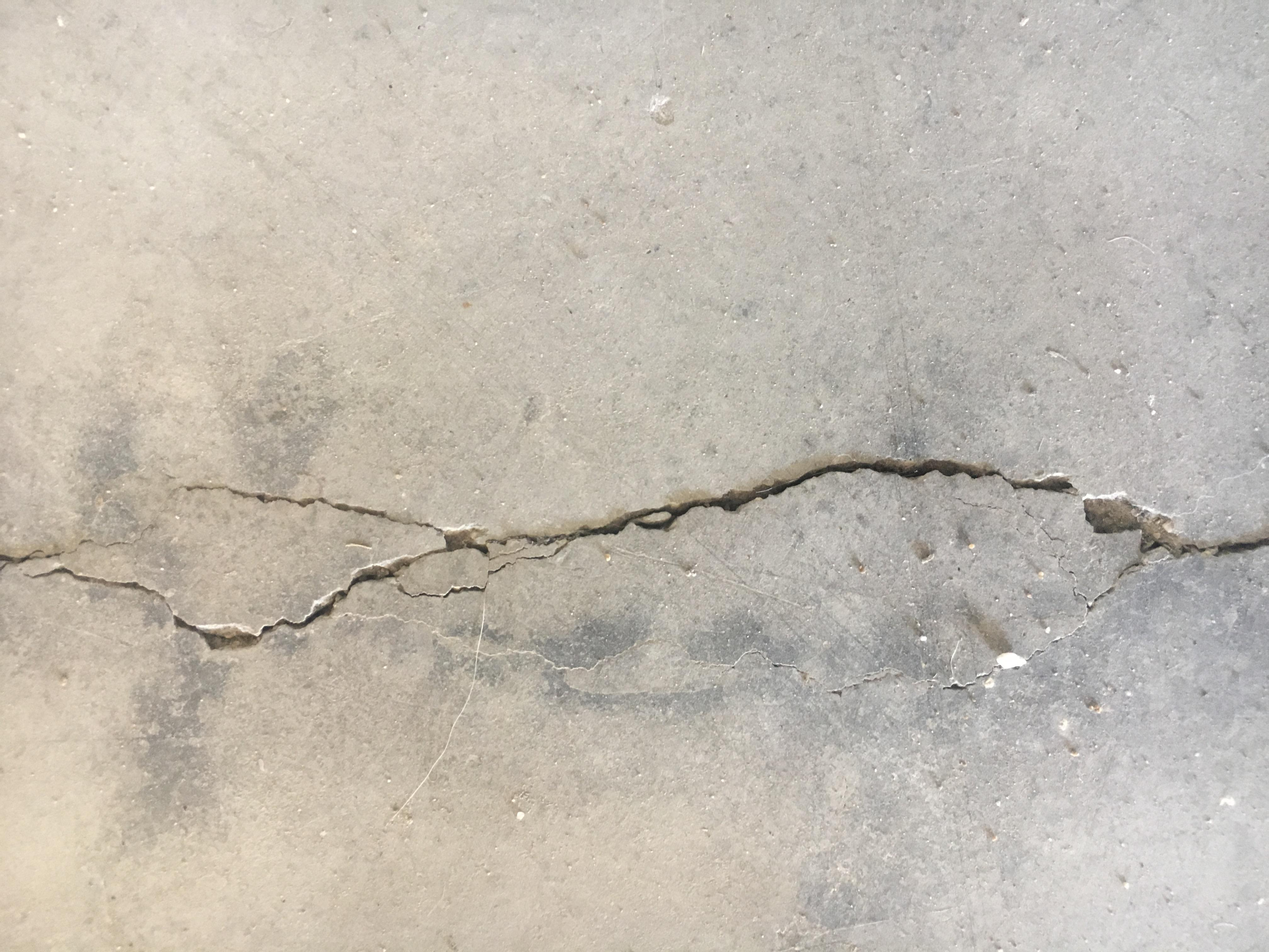Structural-Crack: (6, 451, 1260, 694)
